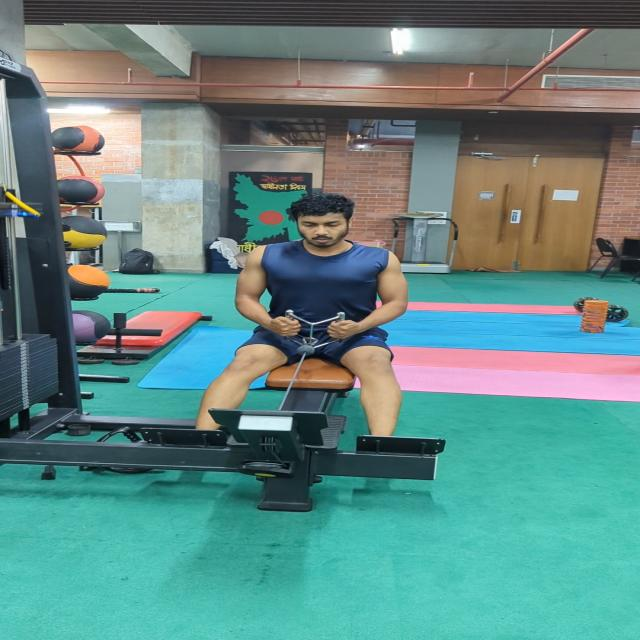Normal_RowingMachineExercise: (187, 190, 420, 437)
